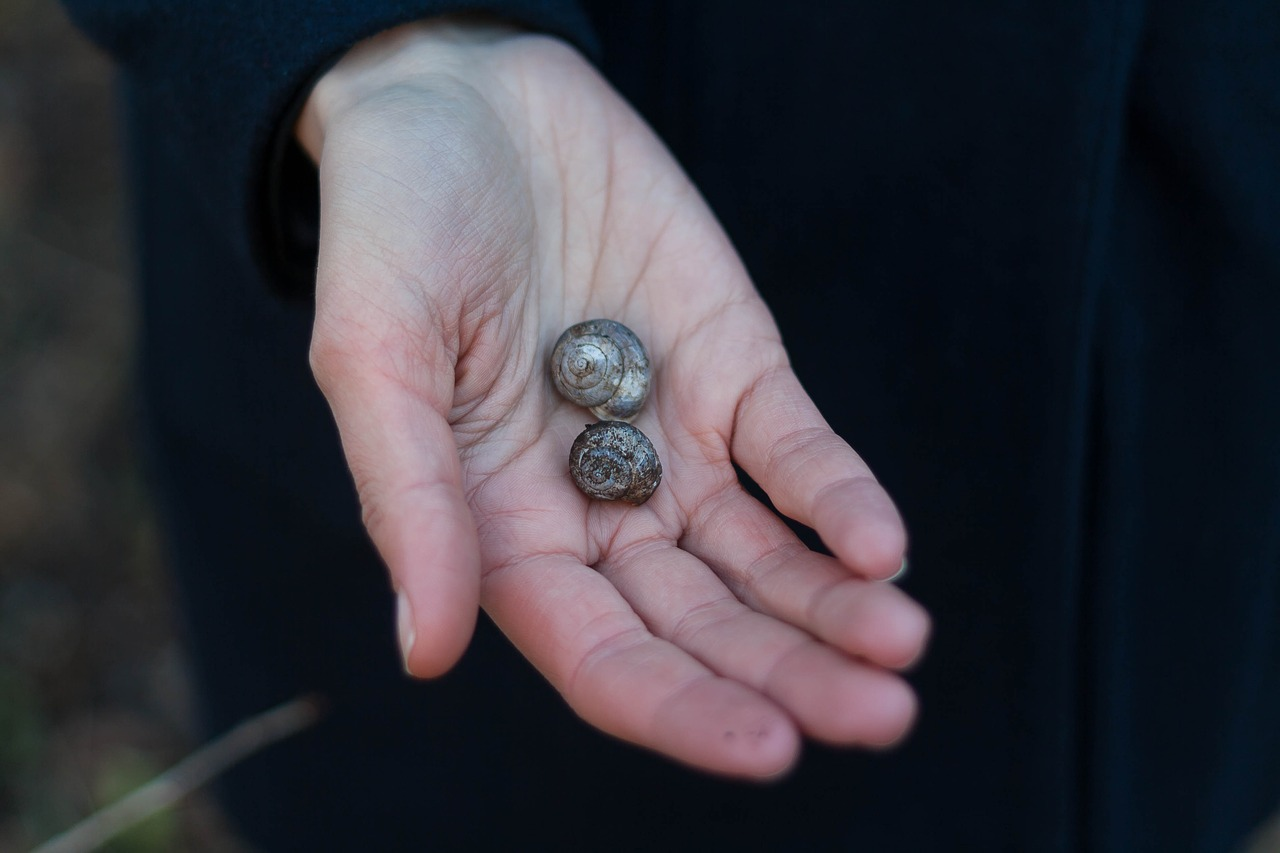palmhand: (317, 38, 927, 782)
